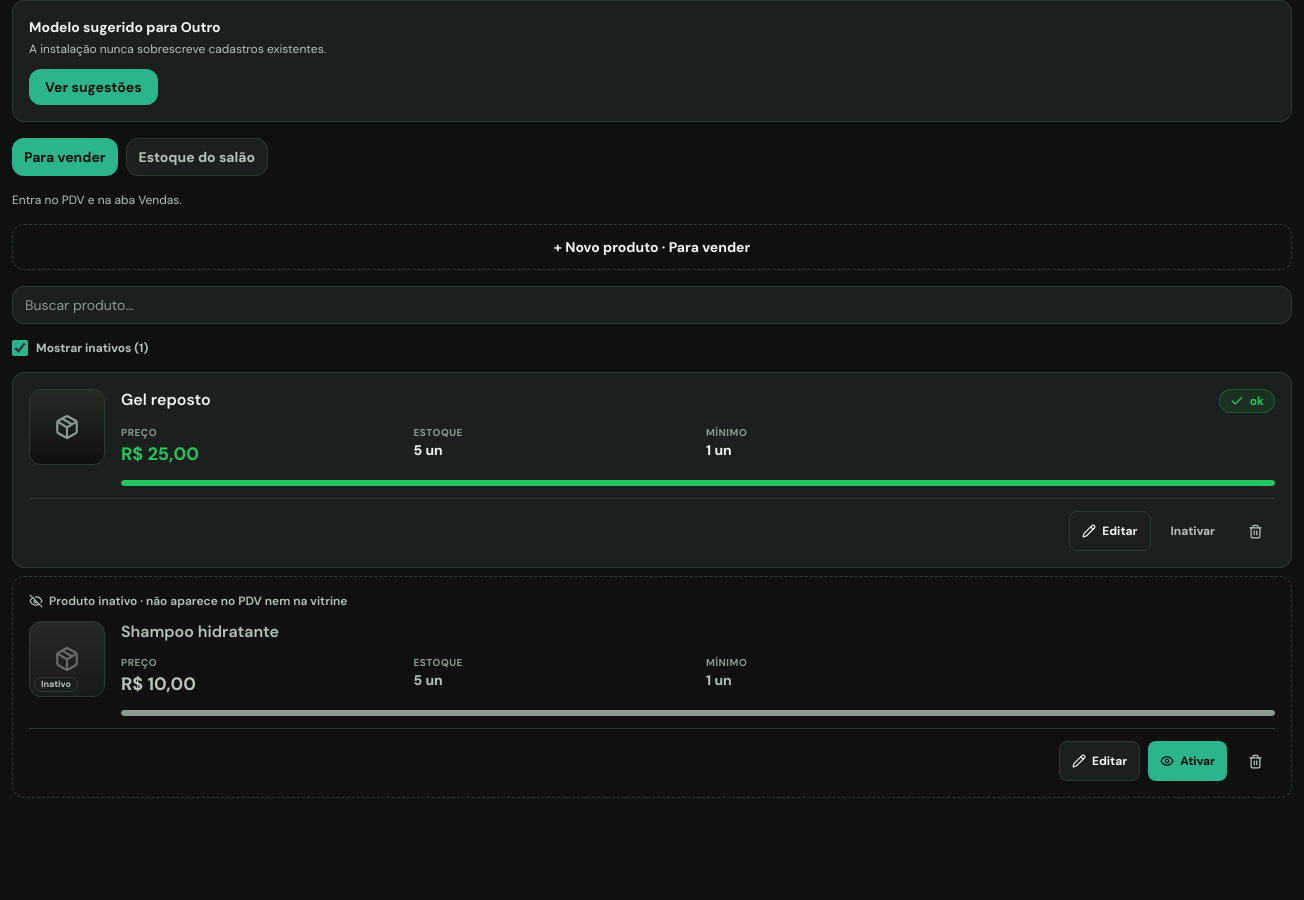
Test: ProductCatalogPanel — card inativo › lista inativos depois dos ativos e esconde quando "Mostrar inativos" é desmarcado
The width and height of the screenshot is (1304, 900).
Click the checkbox labelled "Mostrar inativos (1)": (20,348) [12,340,28,356]
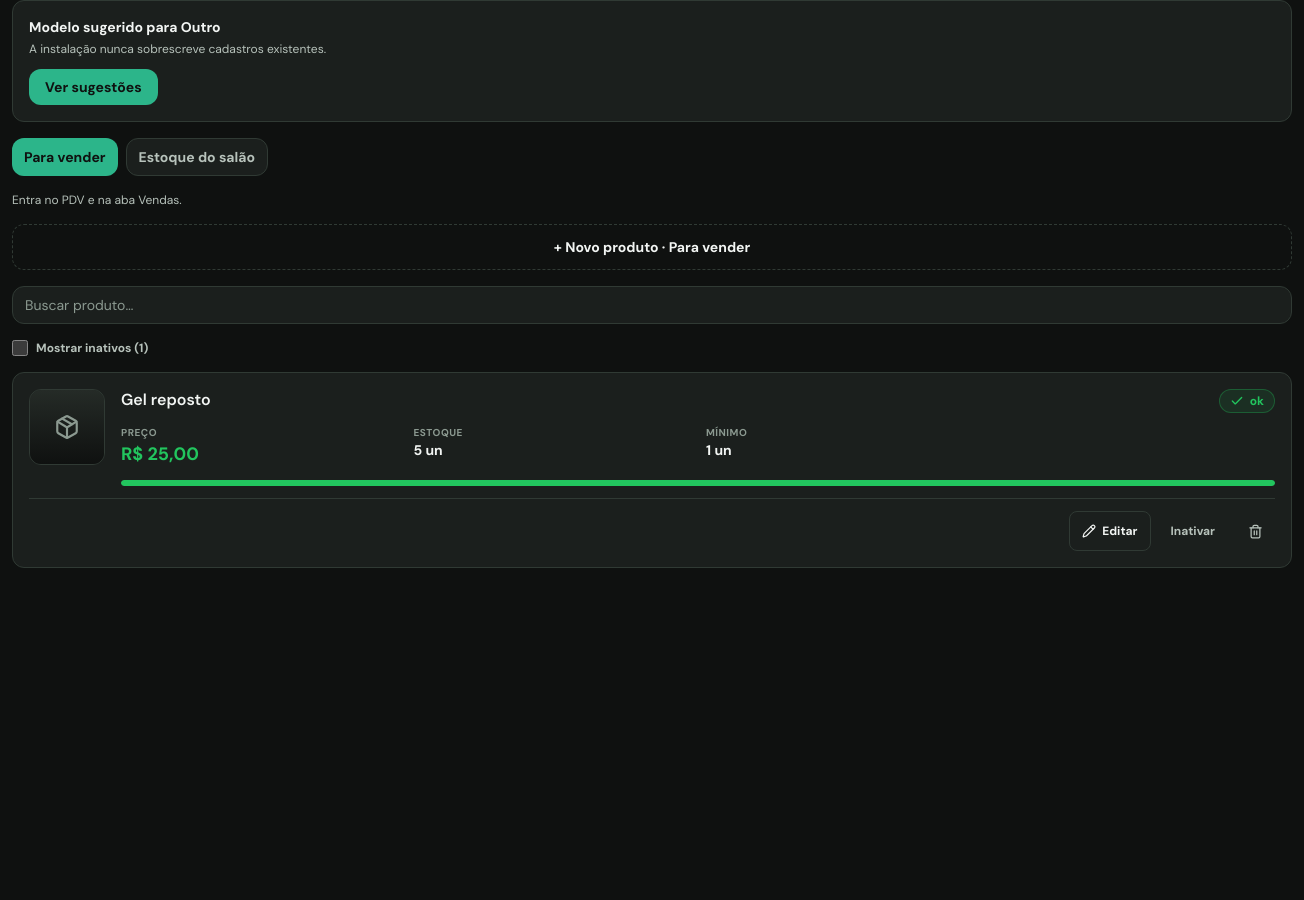
Expected: the text "Gel reposto" is shown, [121,389,211,410]
Expected: the element with test id "inactive-strip" is gone
Expected: the button "Shampoo hidratante" is gone
